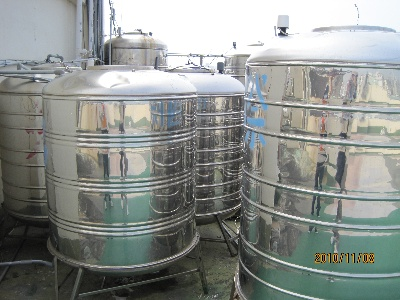water_tower: (237, 24, 400, 300), (42, 67, 211, 300)
